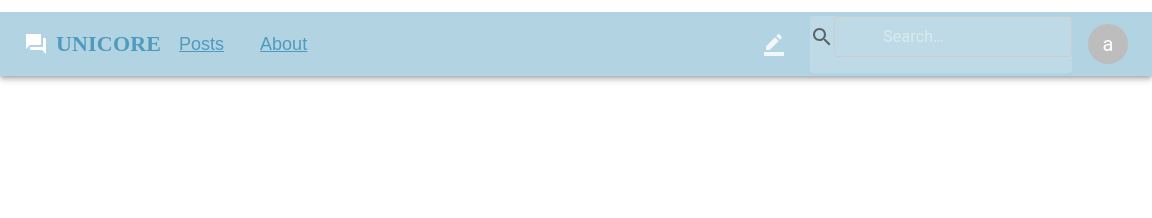
Test: AppHeader Component › opens user menu when settings icon is clicked
Click the button named "open settings" at (1108, 44), box [1088,24,1128,64]
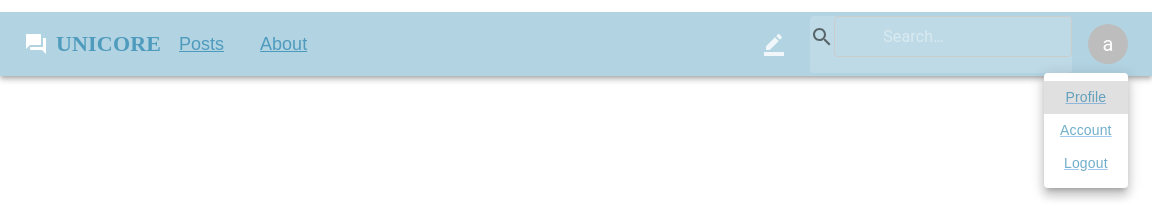
Result: the menu is shown at [1044,73,1128,188]
